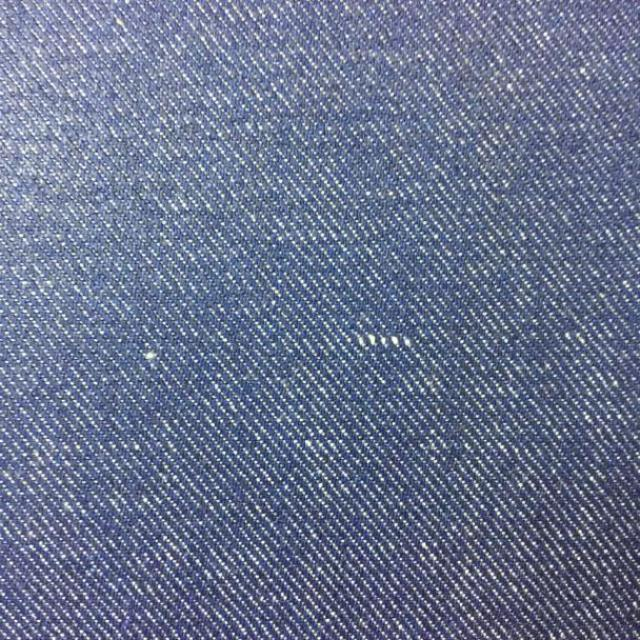Knot: (358, 334, 415, 349)
